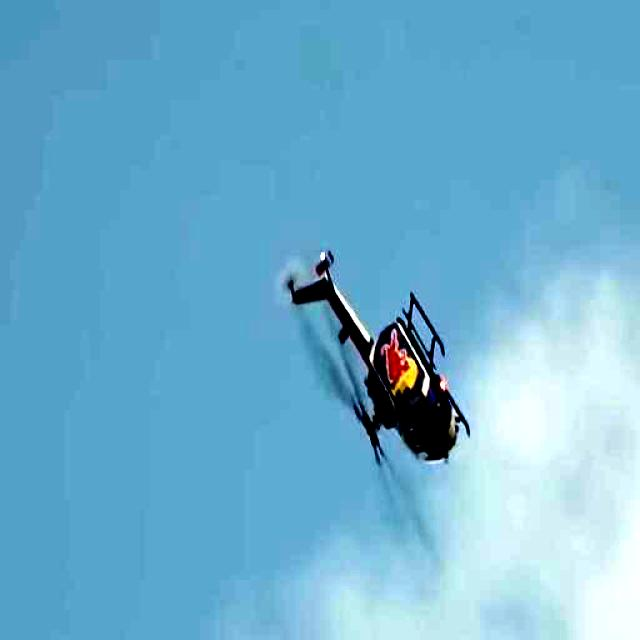drone: (251, 196, 479, 521)
